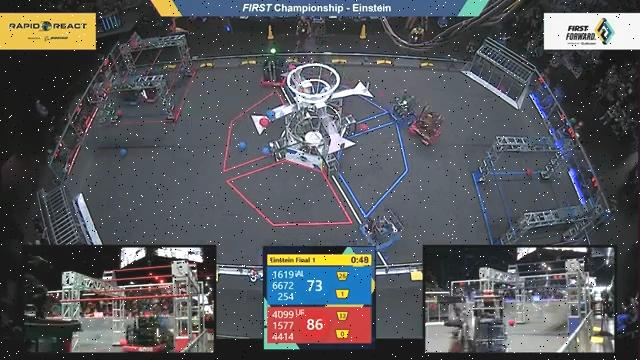Robot: (350, 203, 413, 255), (251, 44, 294, 91), (381, 85, 423, 124), (407, 103, 444, 143)
